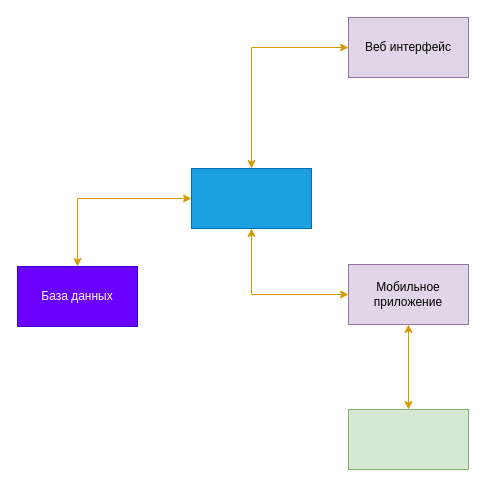
Image size: 486x487. Some labels were removed from this diagram. The box of each missing label's shape, as (x1, y1, x2, y2) in pixels:
Микроконтроллер: (348, 408, 468, 470)
Серверное приложение: (190, 168, 312, 228)
